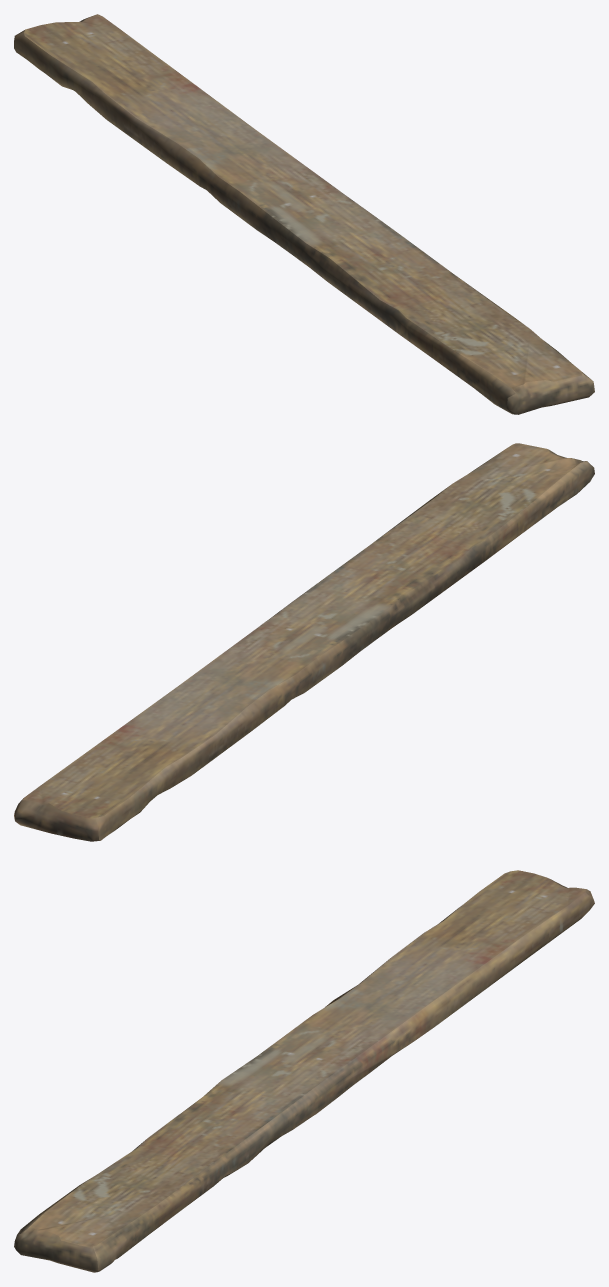
File: SM_Plank_01.gltf
The picture shows the model from 3 angles, top to bottom: view 1: azimuth 30°, elevation 25°; view 2: azimuth 150°, elevation 25°; view 3: azimuth 330°, elevation 25°; orthographic projection.
Parts seen in each view (by area): view 1: SM_Plank_01_LOD0; view 2: SM_Plank_01_LOD0; view 3: SM_Plank_01_LOD0.
Part boxes in pixels (x1,y1,x2,y2): SM_Plank_01_LOD0: (14,14,594,414); SM_Plank_01_LOD0: (14,443,594,841); SM_Plank_01_LOD0: (14,870,594,1272).
Size of what is drawn, in the model's own units: 0.1397 by 0.0379 by 1.39.
